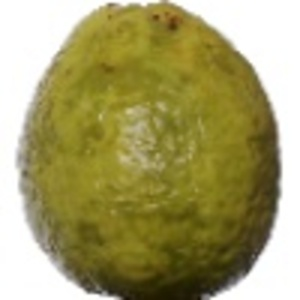goiaba: (16, 3, 285, 295)
